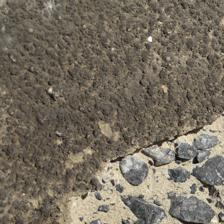Crack: (35, 61, 177, 154)
